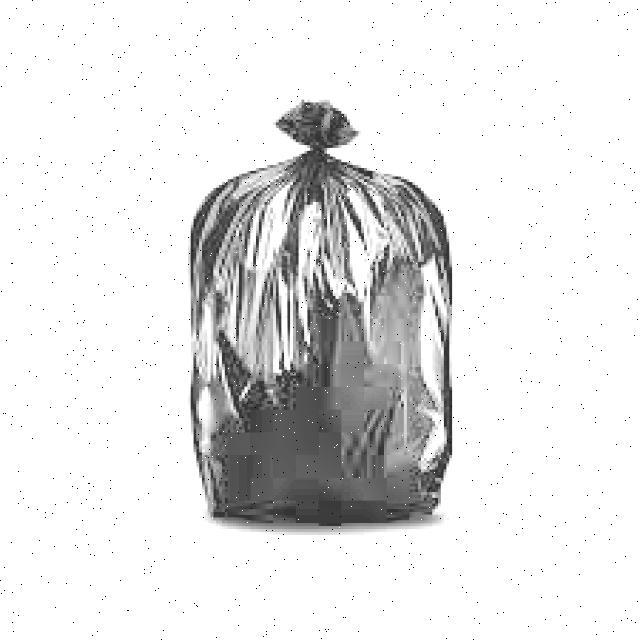Trashbag: (192, 153, 461, 542)
